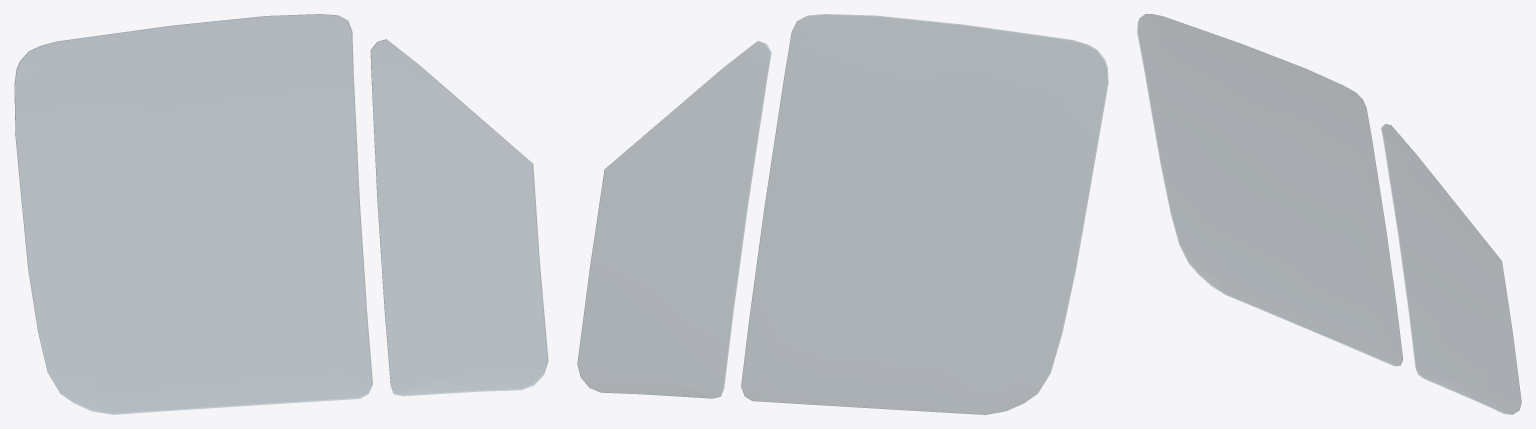
3 renders of one model, left to right at view 1: azimuth 30°, elevation 25°; view 2: azimuth 150°, elevation 25°; view 3: azimuth 330°, elevation 25°, orthographic. The views are drawn at different scales.
Parts seen in each view (by area): view 1: SM_MercedesSprinter_Door_FL_Glass_Ext1; view 2: SM_MercedesSprinter_Door_FL_Glass_Ext1; view 3: SM_MercedesSprinter_Door_FL_Glass_Ext1.
Boxes of the visible parts, <box> form: SM_MercedesSprinter_Door_FL_Glass_Ext1: <box>14,14,548,414</box>; SM_MercedesSprinter_Door_FL_Glass_Ext1: <box>577,14,1108,414</box>; SM_MercedesSprinter_Door_FL_Glass_Ext1: <box>1137,14,1521,414</box>.
Bounding box in the file's own units: 0.8766 × 0.7316 × 0.0541.
